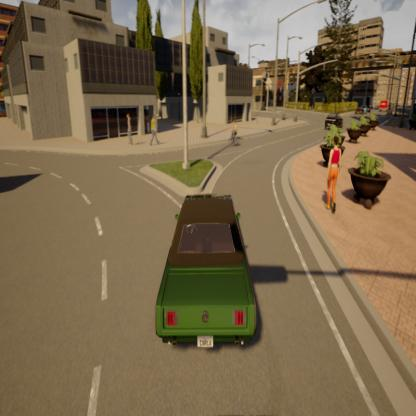Cars: (150, 186, 273, 369), (321, 108, 346, 134), (352, 102, 368, 119)
Pedestrian: (319, 126, 341, 226), (146, 103, 164, 159), (121, 101, 136, 154)
